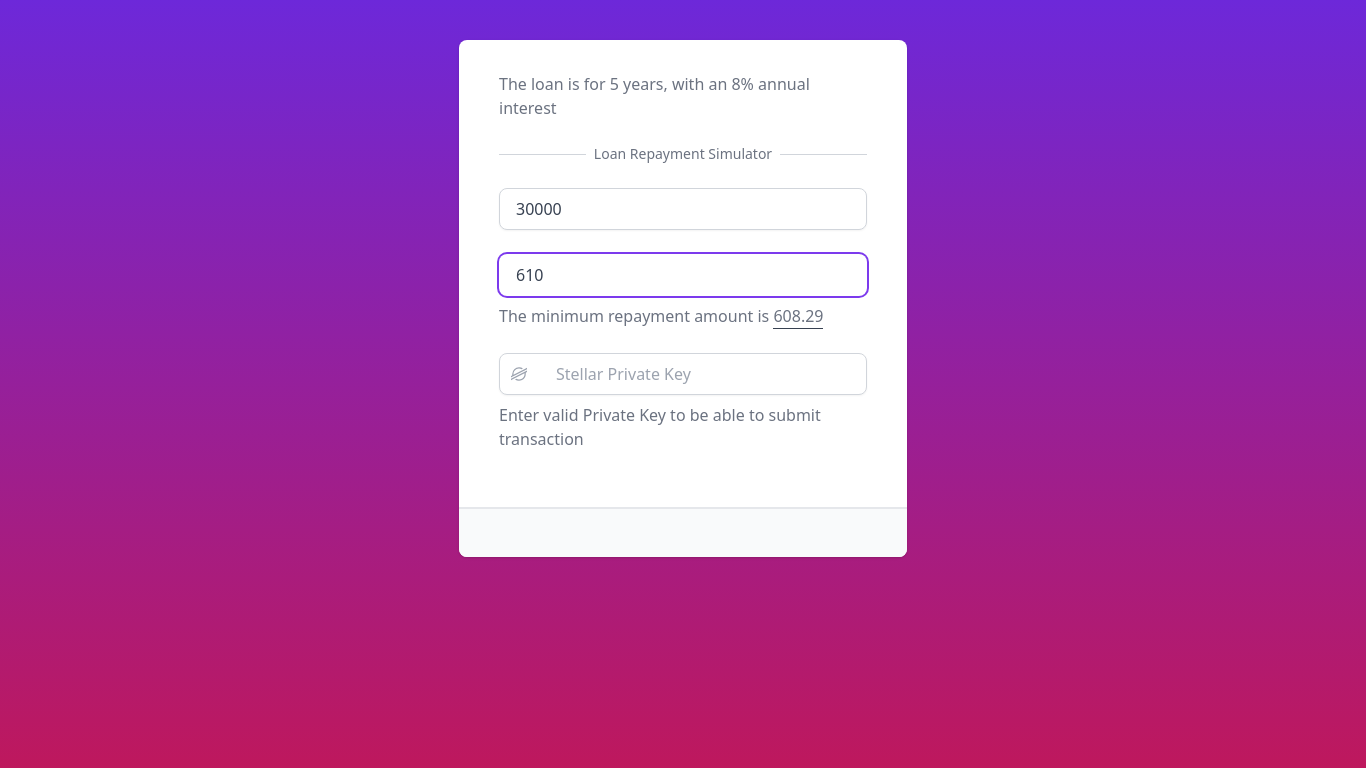
Test case: Submit transaction › checks that the input updates when clicking the minimum repayment button
This screenshot has width=1366, height=768.
What coordinates should you click on to do the following:
click the button with id "set-minimum-repayment"
I would click on:
 (798, 317)
Its box is left=773, top=304, right=823, bottom=329.
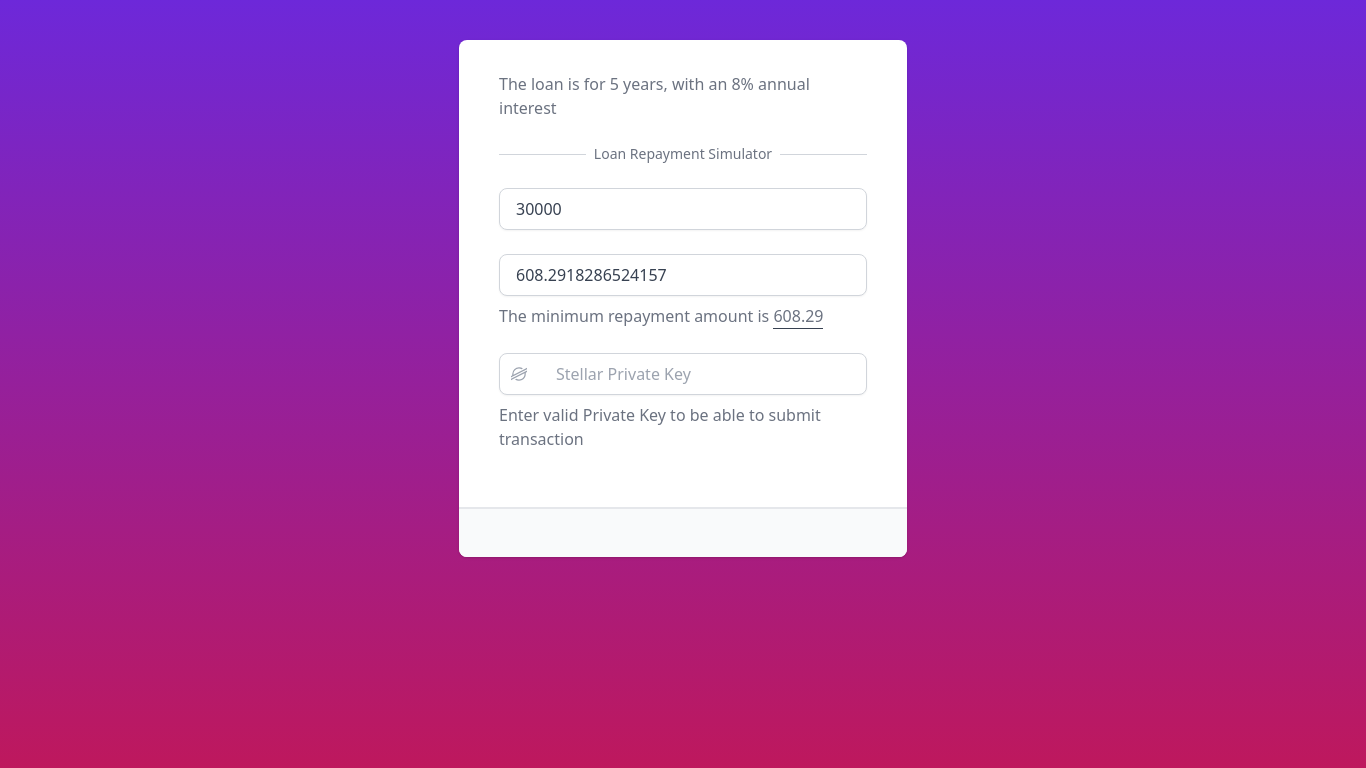
Result: the field with id "repayment-amount" holds "608.2918286524157" at left=499, top=254, right=867, bottom=296
